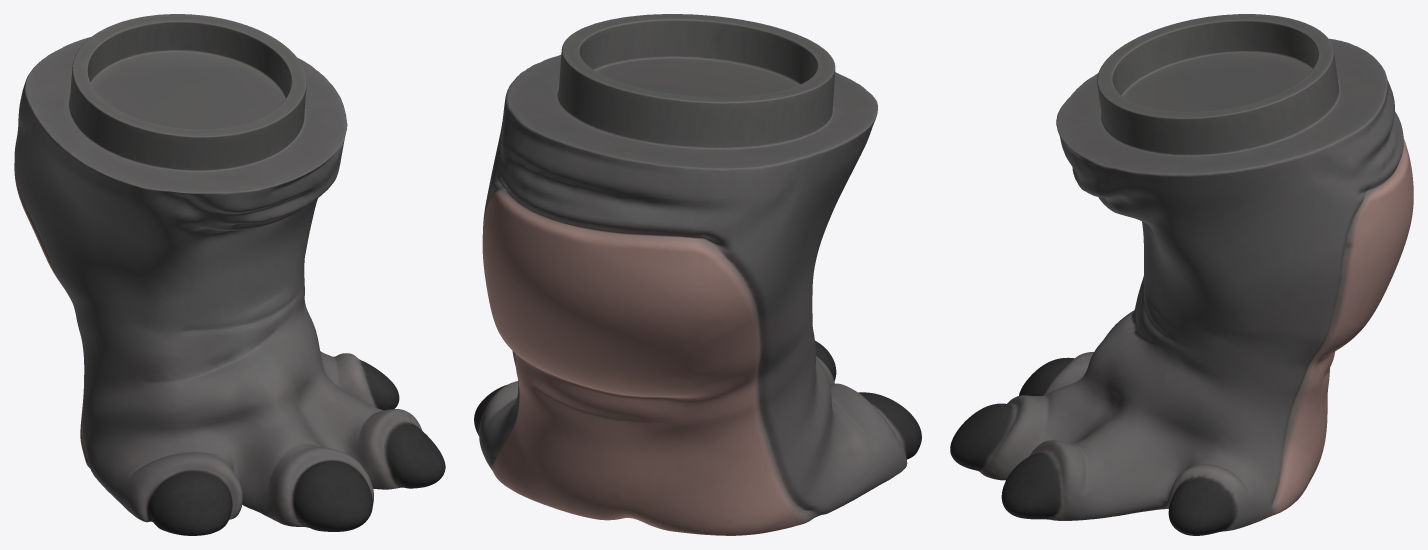
File: Patte_Hippopotame_lft.glb
3 renders of one model, left to right at view 1: azimuth 30°, elevation 25°; view 2: azimuth 150°, elevation 25°; view 3: azimuth 270°, elevation 25°, orthographic. The views are drawn at different scales.
Parts seen in each view (by area): view 1: Patte_Hippopotame_lft; view 2: Patte_Hippopotame_lft; view 3: Patte_Hippopotame_lft.
Boxes of the visible parts, x1,y1,x2,y2 form: Patte_Hippopotame_lft: (14, 14, 445, 535); Patte_Hippopotame_lft: (474, 14, 921, 535); Patte_Hippopotame_lft: (950, 14, 1413, 535).
Size of the model in its own units: 1.99 by 2.24 by 2.41.
